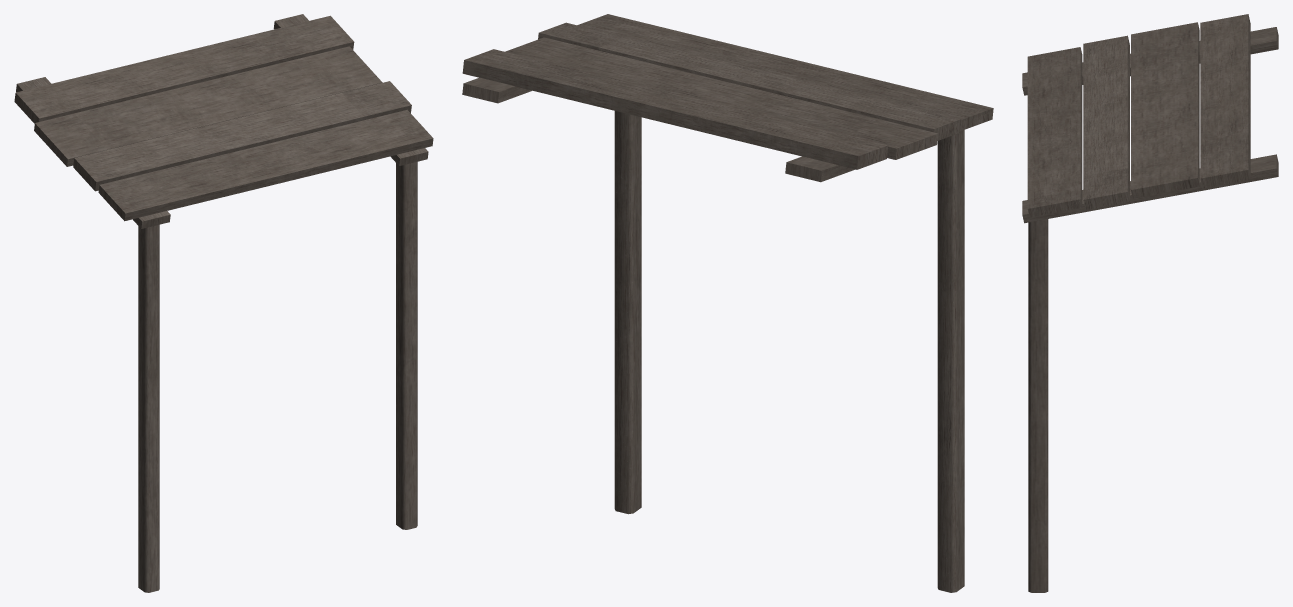
Rendered from woodRoof4.fbx.
3 renders of one model, left to right at view 1: azimuth 30°, elevation 25°; view 2: azimuth 150°, elevation 25°; view 3: azimuth 270°, elevation 25°, orthographic. The views are drawn at different scales.
Visible parts, largest first — view 1: woodRoof4; view 2: woodRoof4; view 3: woodRoof4.
Part boxes in pixels (box(x1,y1,x2,y2)): woodRoof4: box(14, 14, 433, 592); woodRoof4: box(462, 14, 993, 592); woodRoof4: box(1022, 14, 1278, 592).
Size of the model in its own units: 280 by 356 by 191.
